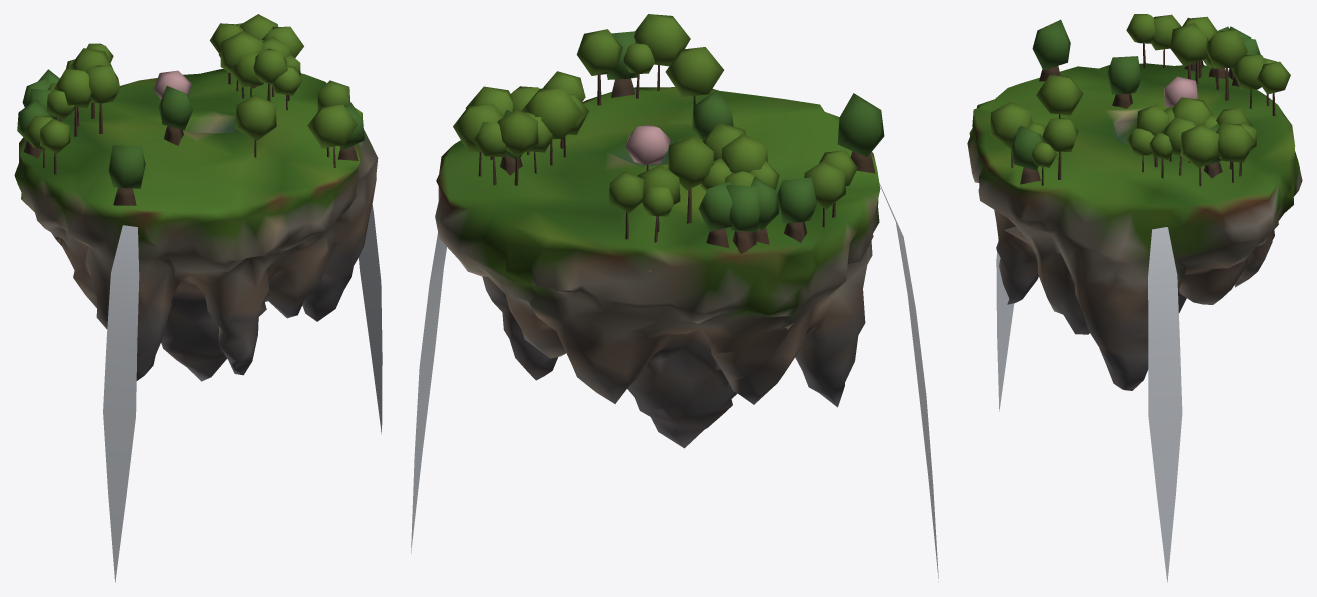
Rendered from island-grove-lod2.glb.
3 views of the same model, side by side, from view 1: azimuth 30°, elevation 25°; view 2: azimuth 150°, elevation 25°; view 3: azimuth 270°, elevation 25° (orthographic). The views are drawn at different scales.
Visible parts, largest first — view 1: Silhouette; view 2: Silhouette; view 3: Silhouette.
Boxes of the visible parts, <box> form: Silhouette: <box>14,14,382,582</box>; Silhouette: <box>411,14,938,581</box>; Silhouette: <box>967,14,1302,582</box>.
Bounding box in the file's own units: 71.69 × 81.91 × 58.58.
